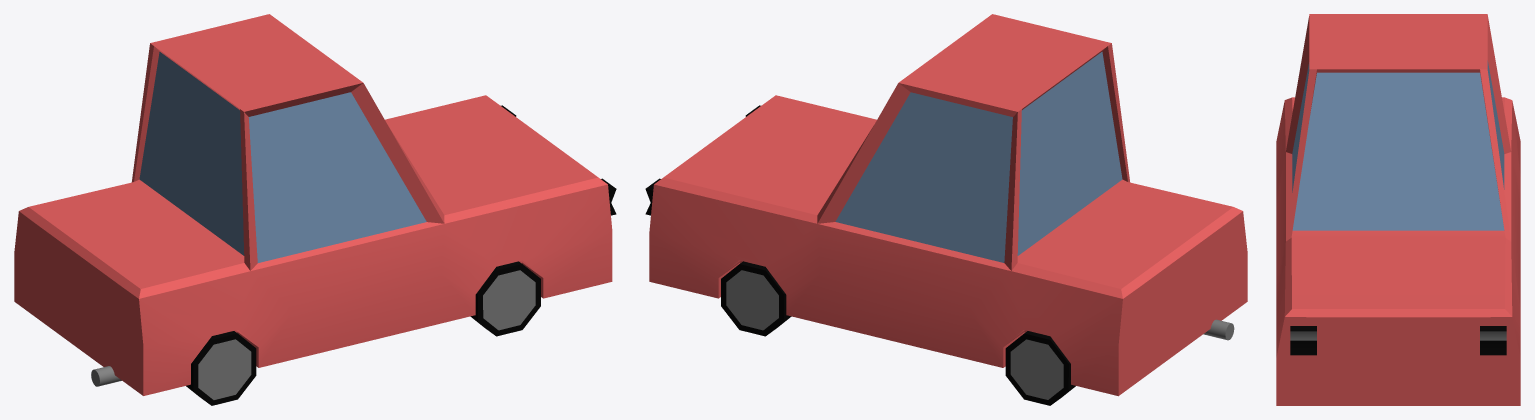
Rendered from Decoration_Car_Red.fbx.
3 views of the same model, side by side, from view 1: azimuth 30°, elevation 25°; view 2: azimuth 150°, elevation 25°; view 3: azimuth 270°, elevation 25° (orthographic). The views are drawn at different scales.
Parts seen in each view (by area): view 1: pCube1, pCylinder3, pCylinder1; view 2: pCube1, pCylinder2, pCylinder4; view 3: pCube1, pCube2, pCube3.
Part boxes in pixels (bbox=[...]): pCube1: bbox=[14, 14, 612, 395]; pCylinder3: bbox=[470, 261, 540, 336]; pCylinder1: bbox=[186, 331, 256, 405]; pCube1: bbox=[649, 14, 1247, 396]; pCylinder2: bbox=[1005, 331, 1075, 405]; pCylinder4: bbox=[721, 261, 791, 336]; pCube1: bbox=[1276, 14, 1520, 405]; pCube2: bbox=[1290, 326, 1316, 355]; pCube3: bbox=[1480, 326, 1506, 355].
Bounding box in the file's own units: 2.22 × 1.15 × 1.
